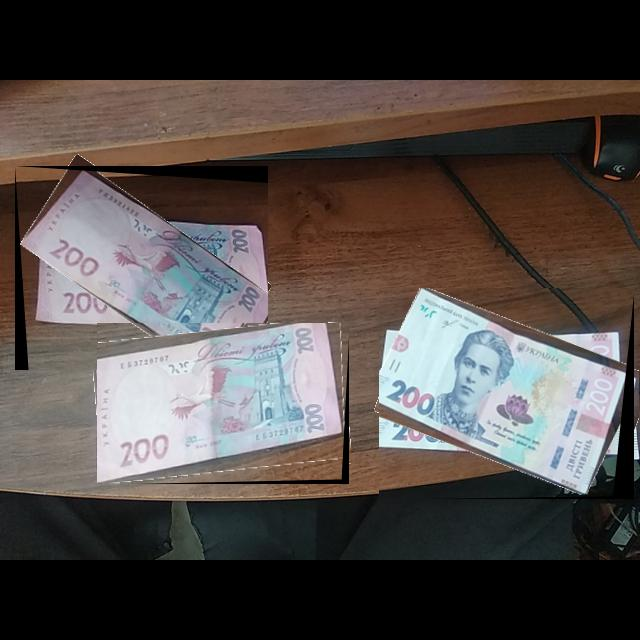200uah: (379, 288, 628, 498), (19, 170, 269, 371), (97, 323, 345, 485)
